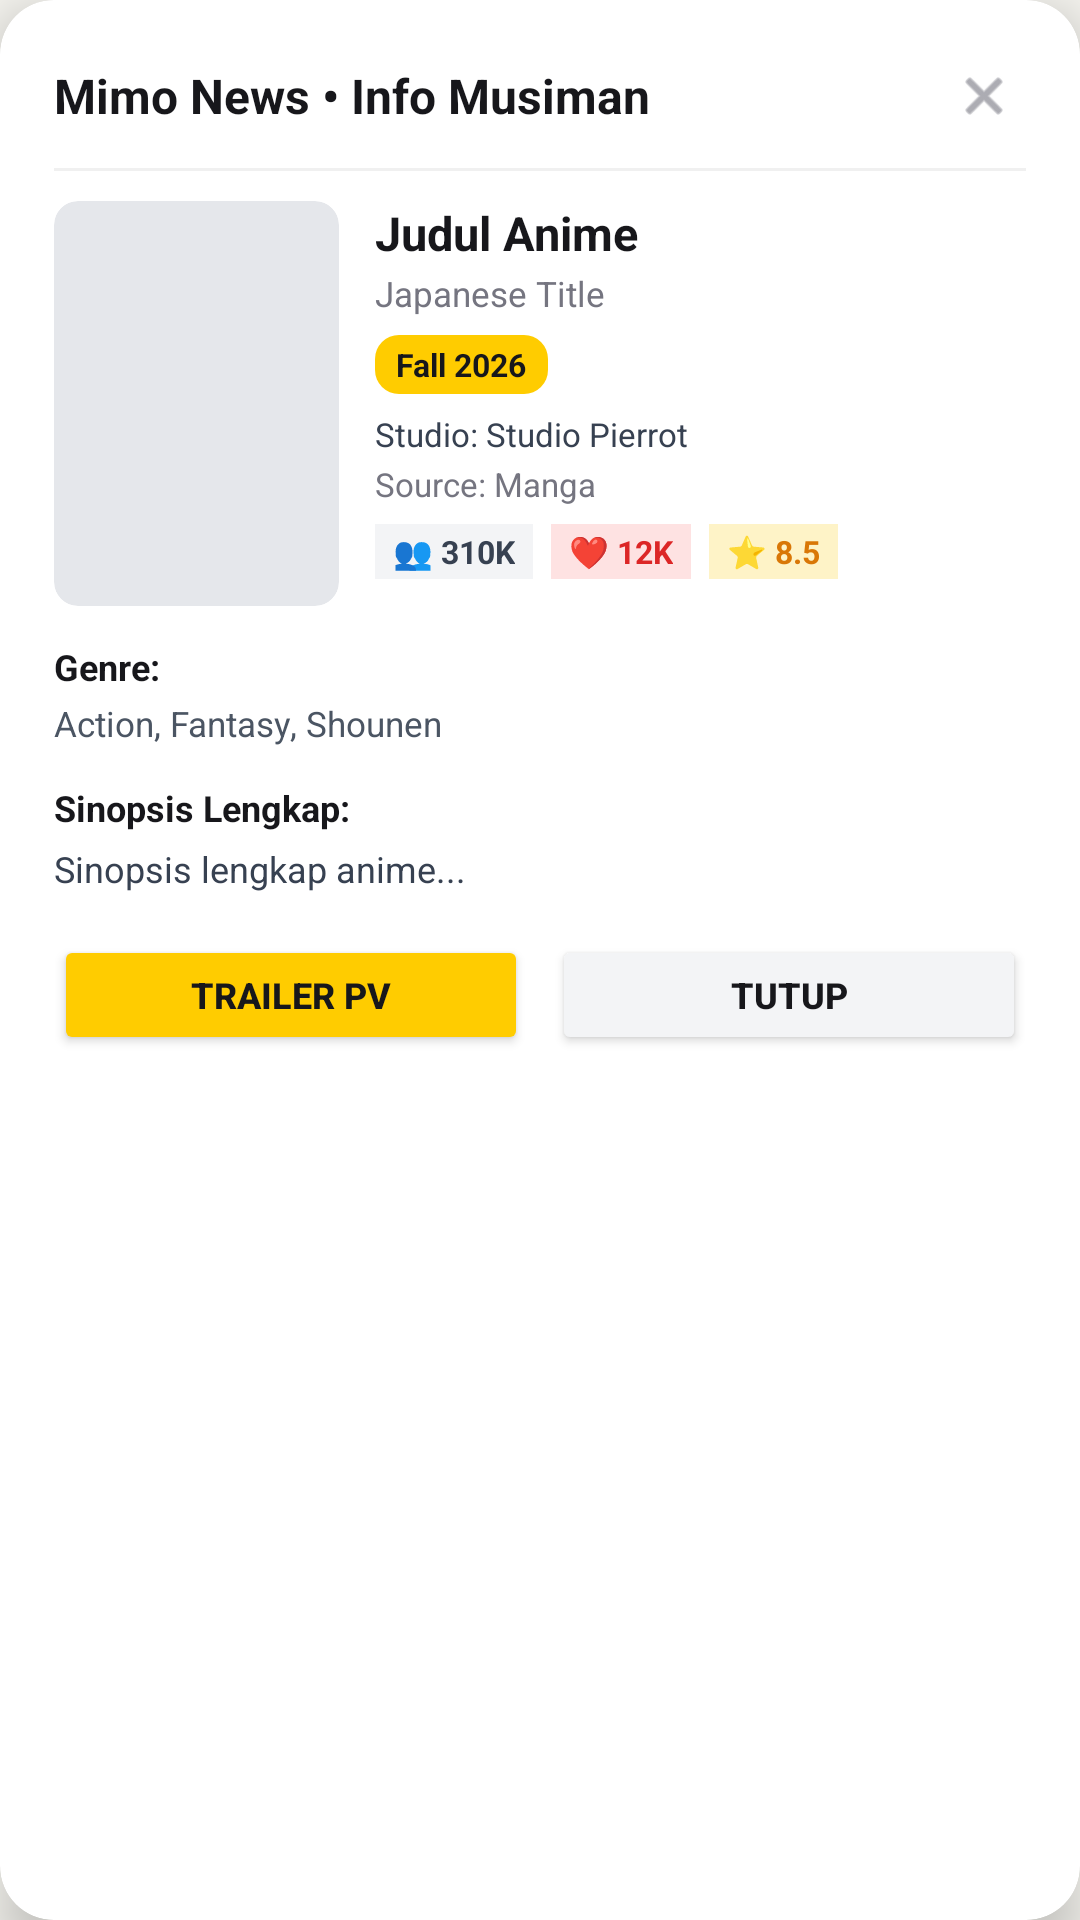

Where icons sit on this 1080 x 1920 app screen, as (x1, y1, x2, y2):
close clear cancel: (965, 77, 1003, 115)
